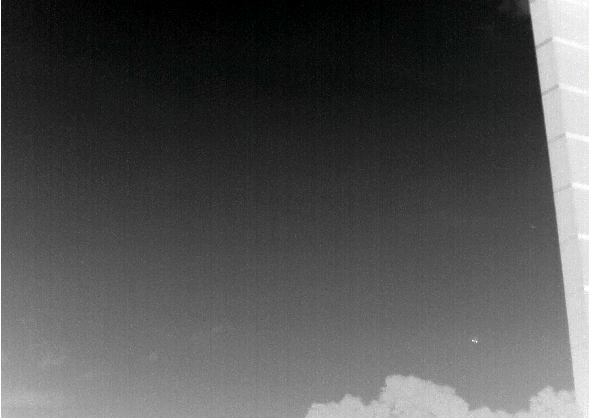dim target: (471, 337, 478, 344), (529, 224, 537, 230)
